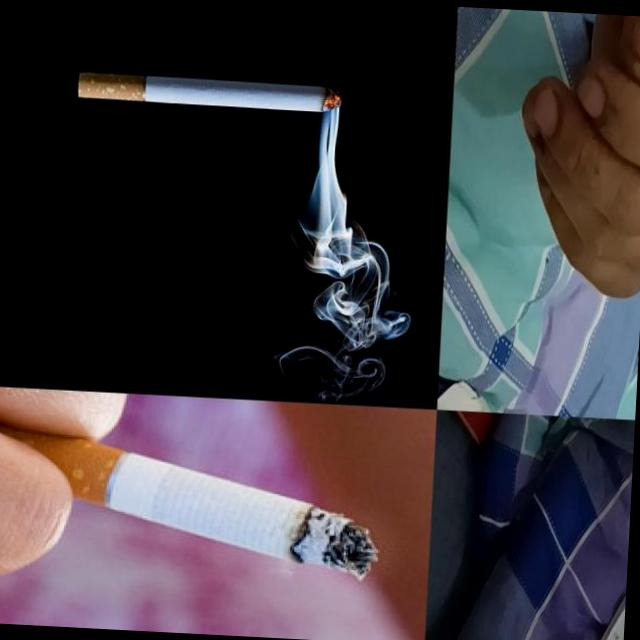smoke: (67, 441, 386, 586), (78, 72, 343, 112)
